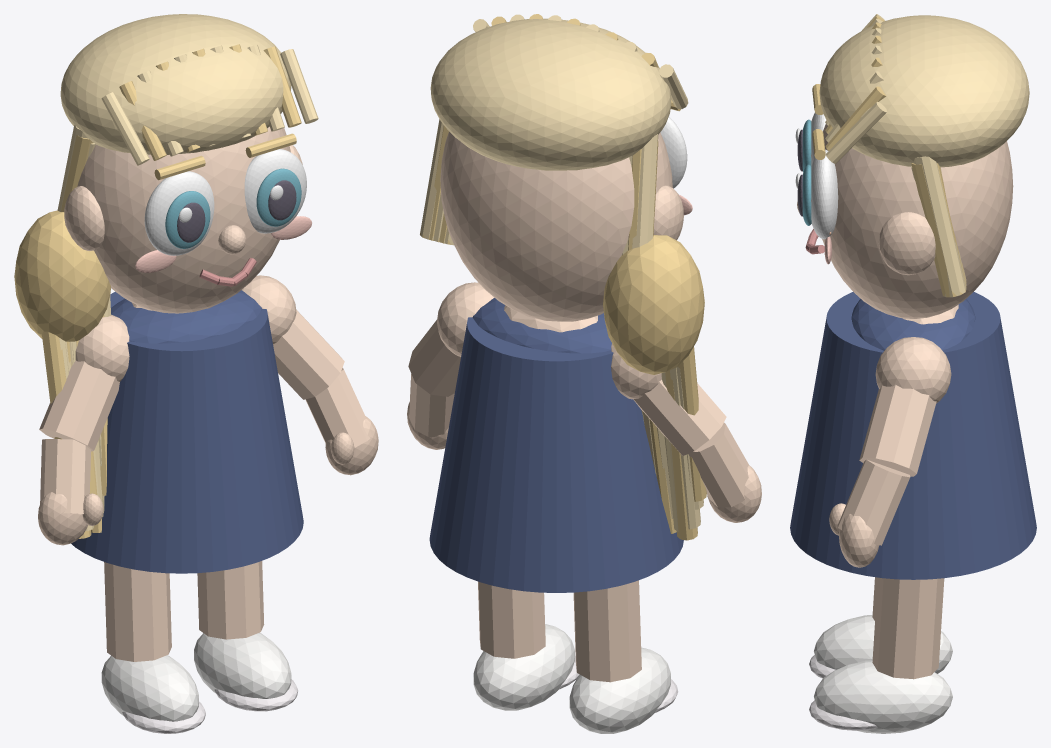
Rendered from lale.glb.
The picture shows the model from 3 angles, left to right: view 1: azimuth 30°, elevation 25°; view 2: azimuth 150°, elevation 25°; view 3: azimuth 270°, elevation 25°; orthographic projection. The views are drawn at different scales.
Visible parts, largest first — view 1: Lale_002_starry_blue_dress, Lale_068_blonde_hair_cap, Lale_042_head, Lale_089_ponytail_root, Lale_026_leg, Lale_027_sneaker, Lale_030_sneaker, Lale_029_leg, Lale_003_neckline, Lale_033_upper_arm, Lale_038_upper_arm, Lale_034_forearm (+25 smaller); view 2: Lale_002_starry_blue_dress, Lale_068_blonde_hair_cap, Lale_042_head, Lale_089_ponytail_root, Lale_026_leg, Lale_030_sneaker, Lale_027_sneaker, Lale_029_leg, Lale_003_neckline, Lale_033_upper_arm, Lale_034_forearm, Lale_038_upper_arm (+16 smaller); view 3: Lale_002_starry_blue_dress, Lale_068_blonde_hair_cap, Lale_042_head, Lale_030_sneaker, Lale_029_leg, Lale_038_upper_arm, Lale_037_shoulder, Lale_003_neckline, Lale_039_forearm, Lale_044_right_ear, Lale_027_sneaker, Lale_081_hair_side_lock (+8 smaller).
Boxes of the visible parts, x1,y1,x2,y2 form: Lale_002_starry_blue_dress: (71,291,303,573); Lale_068_blonde_hair_cap: (60,14,291,154); Lale_042_head: (77,126,290,313); Lale_089_ponytail_root: (14,210,110,341); Lale_026_leg: (104,562,171,661); Lale_027_sneaker: (101,655,198,721); Lale_030_sneaker: (194,632,291,698); Lale_029_leg: (197,561,264,639); Lale_003_neckline: (111,290,262,343); Lale_033_upper_arm: (39,360,119,451); Lale_038_upper_arm: (273,310,344,399); Lale_034_forearm: (40,439,90,514); Lale_002_starry_blue_dress: (429,317,683,592); Lale_068_blonde_hair_cap: (430,18,671,170); Lale_042_head: (440,131,672,321); Lale_089_ponytail_root: (603,235,704,374); Lale_026_leg: (573,580,641,682); Lale_030_sneaker: (473,624,574,710); Lale_027_sneaker: (569,647,670,733); Lale_029_leg: (478,581,545,658); Lale_003_neckline: (472,298,611,353); Lale_033_upper_arm: (633,379,726,455); Lale_034_forearm: (688,422,749,507); Lale_038_upper_arm: (408,319,460,396); Lale_002_starry_blue_dress: (790,292,1036,579); Lale_068_blonde_hair_cap: (819,15,1029,167); Lale_042_head: (822,124,1013,318); Lale_030_sneaker: (814,660,952,733); Lale_029_leg: (872,577,944,679); Lale_038_upper_arm: (859,385,936,476); Lale_037_shoulder: (875,337,951,403); Lale_003_neckline: (851,298,975,350); Lale_039_forearm: (837,459,910,545); Lale_044_right_ear: (878,212,935,275); Lale_027_sneaker: (814,615,952,673); Lale_081_hair_side_lock: (913,156,966,297).
Bounding box in the file's own units: 1.24 × 2.34 × 0.78.
